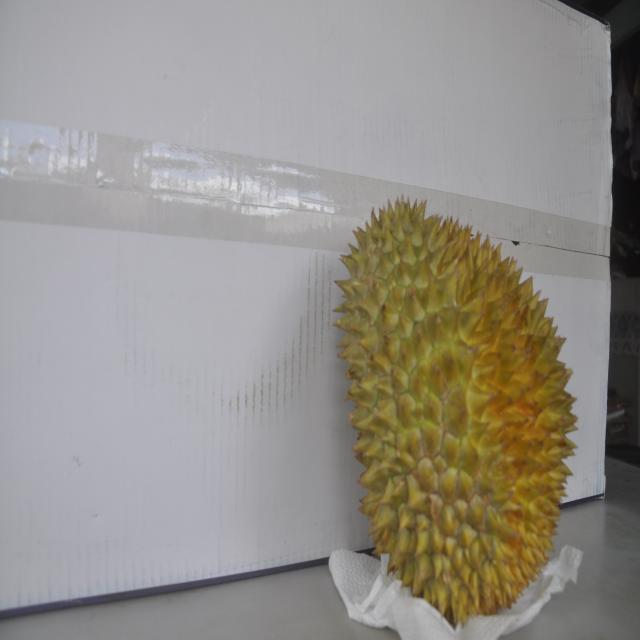mature: (332, 194, 581, 625)
